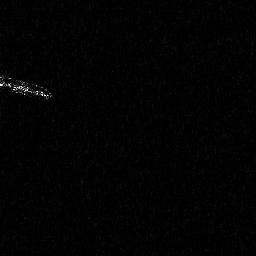ship: (1, 70, 52, 101)
